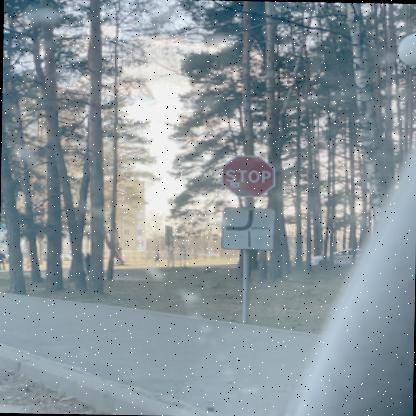stop: (218, 153, 274, 196)
